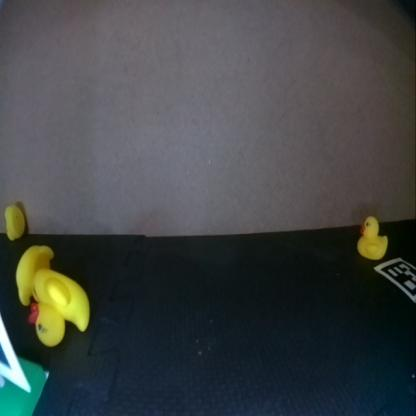Duckie: (29, 267, 89, 344), (17, 245, 54, 304), (358, 217, 388, 257), (4, 203, 24, 238)
QR code: (376, 259, 413, 300)
